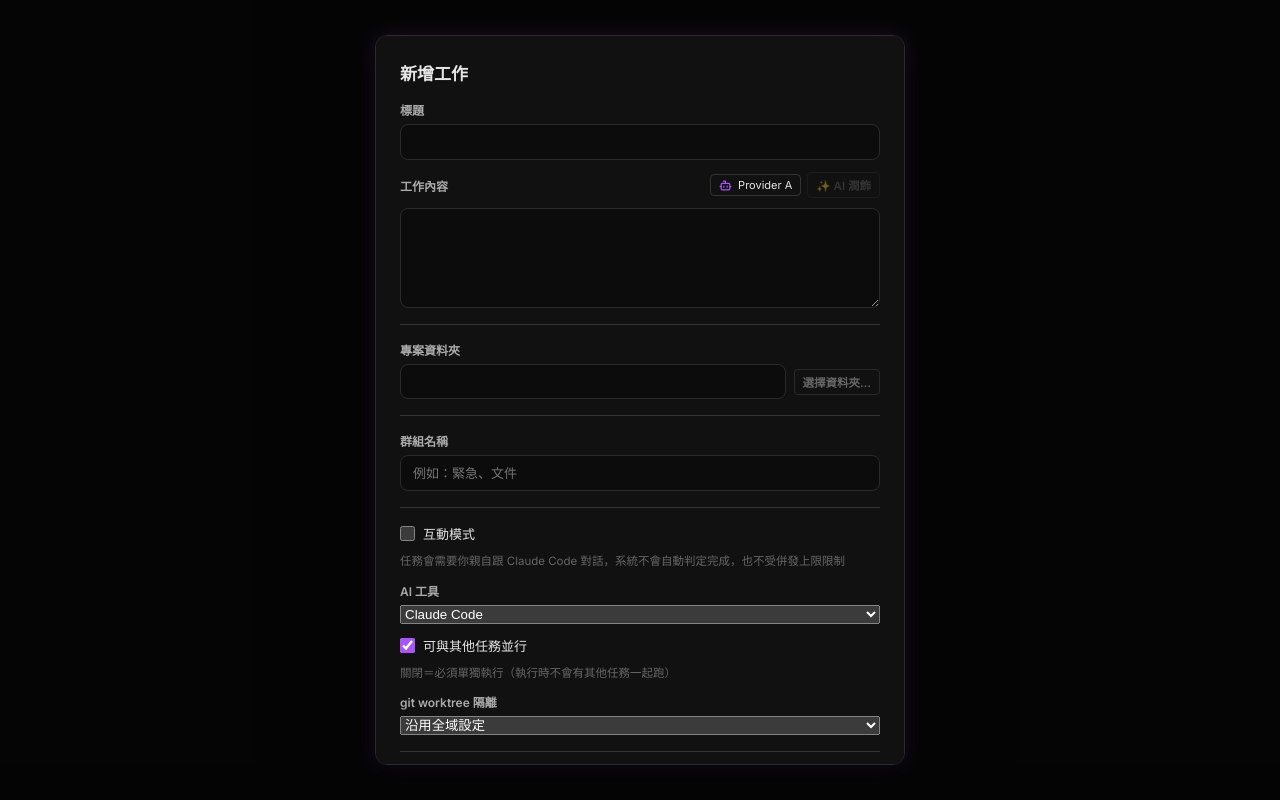
Test: TaskEditorDialog 的 AI 潤飾 › 潤飾後把改寫的內容寫回輸入框
This screenshot has width=1280, height=800.
Type "把打卡 API 整理一下" into the text box with test id "task-body-input" at {"x": 640, "y": 258}, box [400, 208, 880, 308]
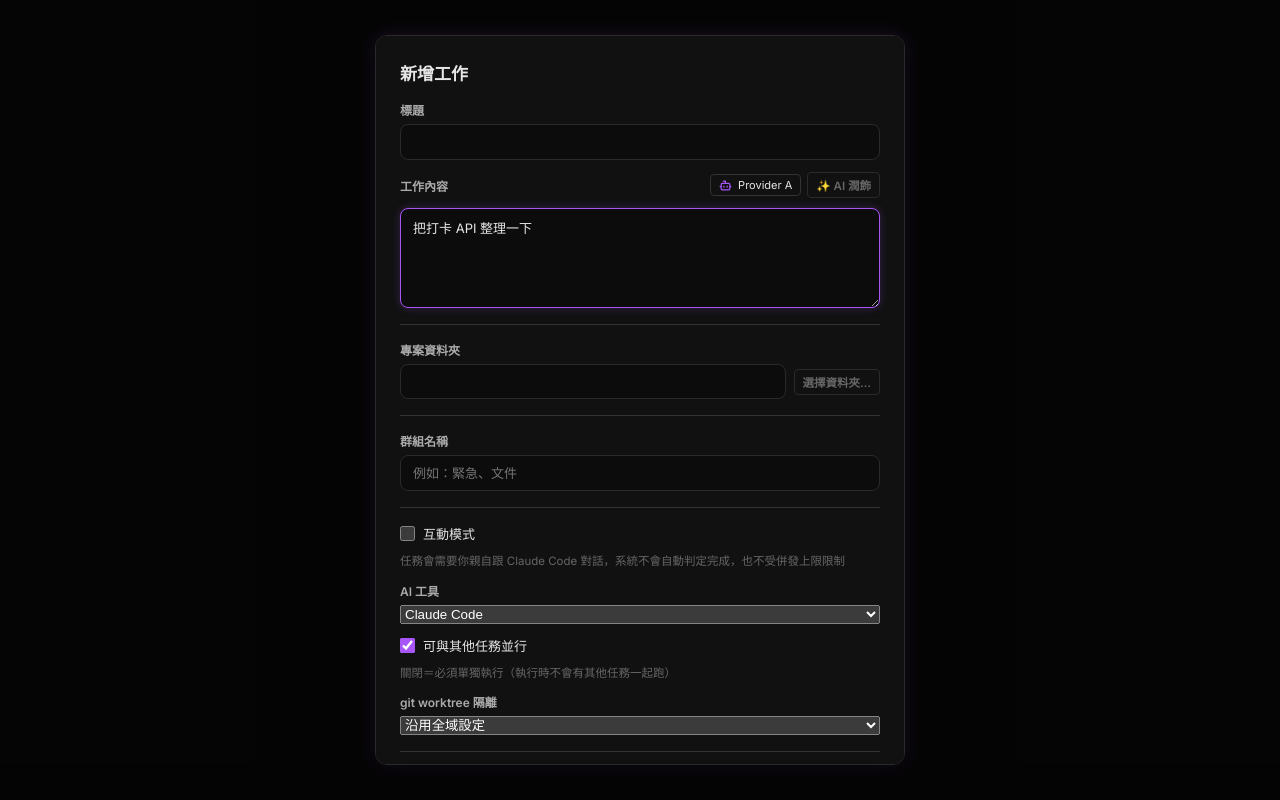
Click the button with test id "task-refine" at {"x": 844, "y": 185}, box [807, 172, 880, 198]
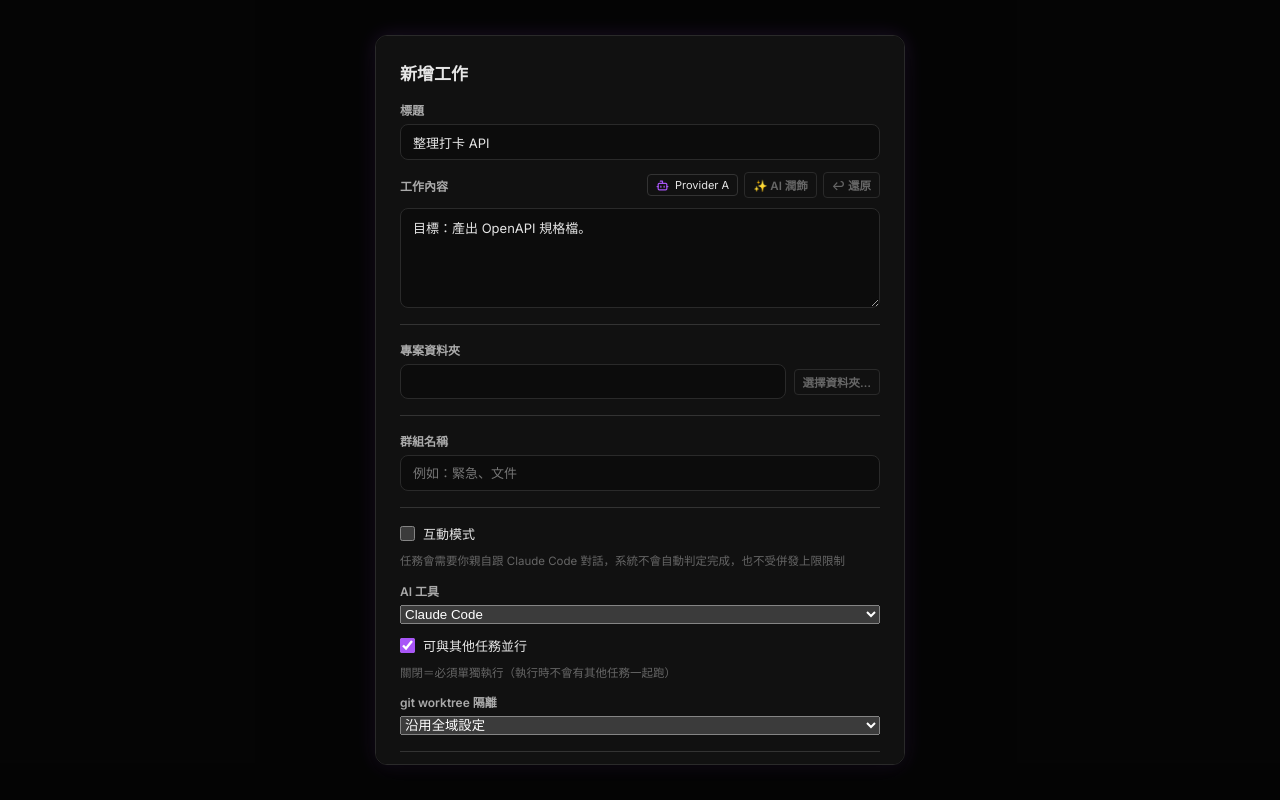
expect the text box with test id "task-body-input" holds "目標：產出 OpenAPI 規格檔。": met, box [400, 208, 880, 308]
